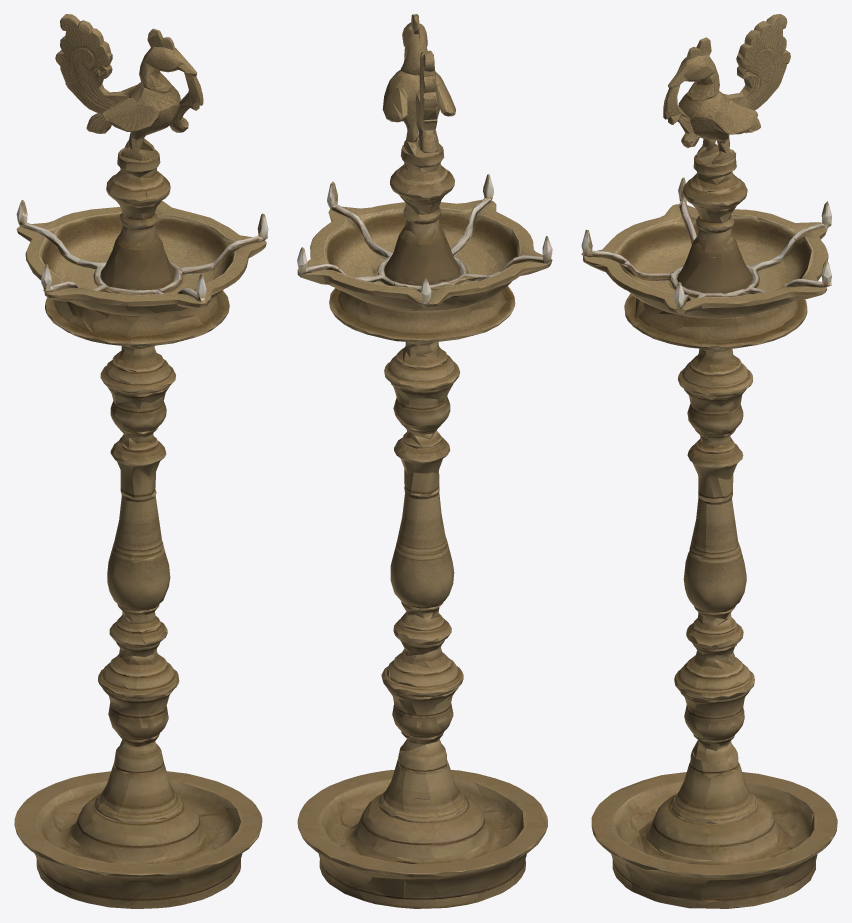
Rendered from lamp.glb.
3 views of the same model, side by side, from view 1: azimuth 30°, elevation 25°; view 2: azimuth 150°, elevation 25°; view 3: azimuth 270°, elevation 25° (orthographic).
Visible parts, largest first — view 1: placed; view 2: placed; view 3: placed.
Part boxes in pixels (<box>): placed: <box>14,14,268,908</box>; placed: <box>297,14,552,908</box>; placed: <box>581,14,837,908</box>.
Size of the model in its own units: 0.3507 by 1.25 by 0.3486.
Materials: 1 (1 with a texture image).
